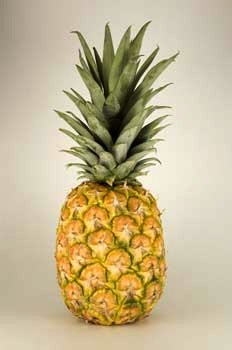pineapple: (50, 19, 182, 327)
